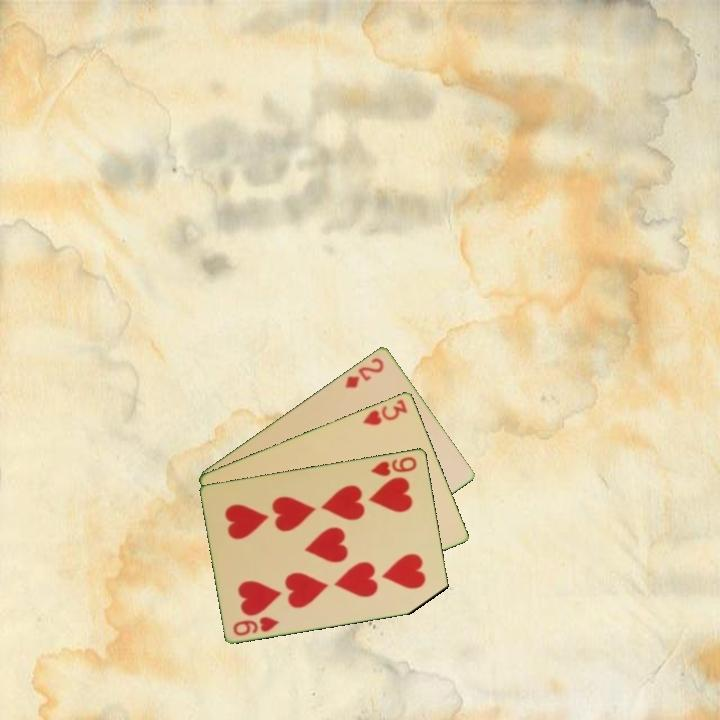2d: (341, 354, 387, 391)
3h: (359, 395, 410, 428)
9h: (368, 453, 420, 479), (230, 613, 282, 639)
